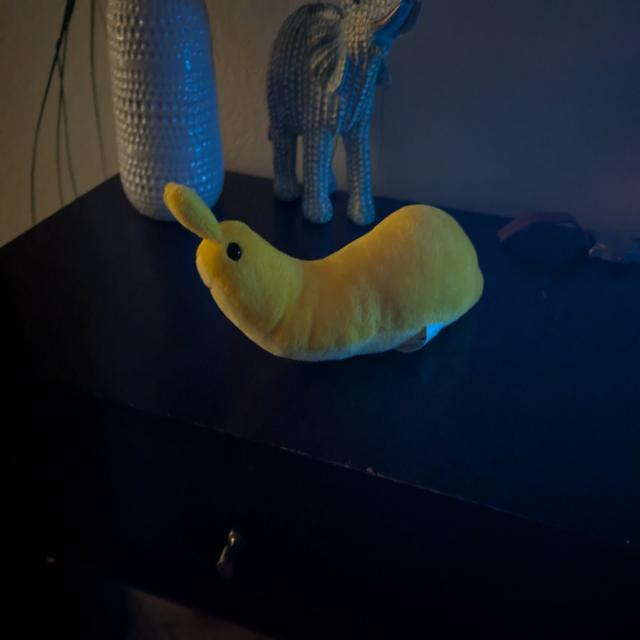banana-slug-toy: (142, 162, 506, 382)
